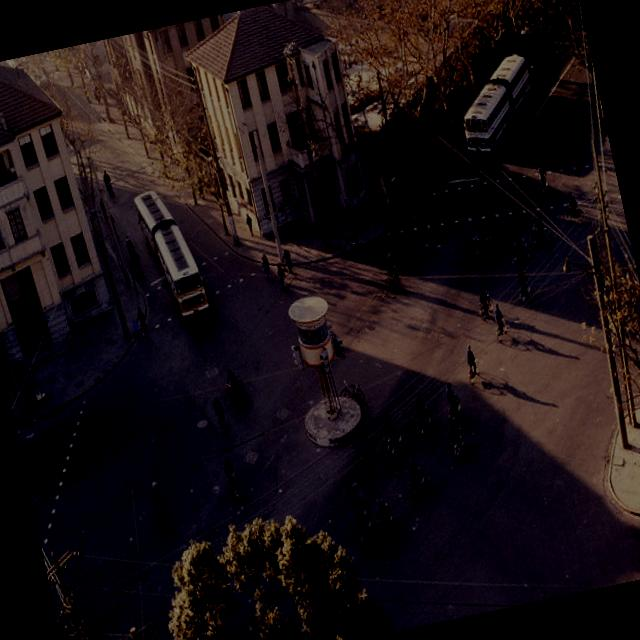Vehicle: (133, 184, 210, 324), (451, 48, 546, 158)
